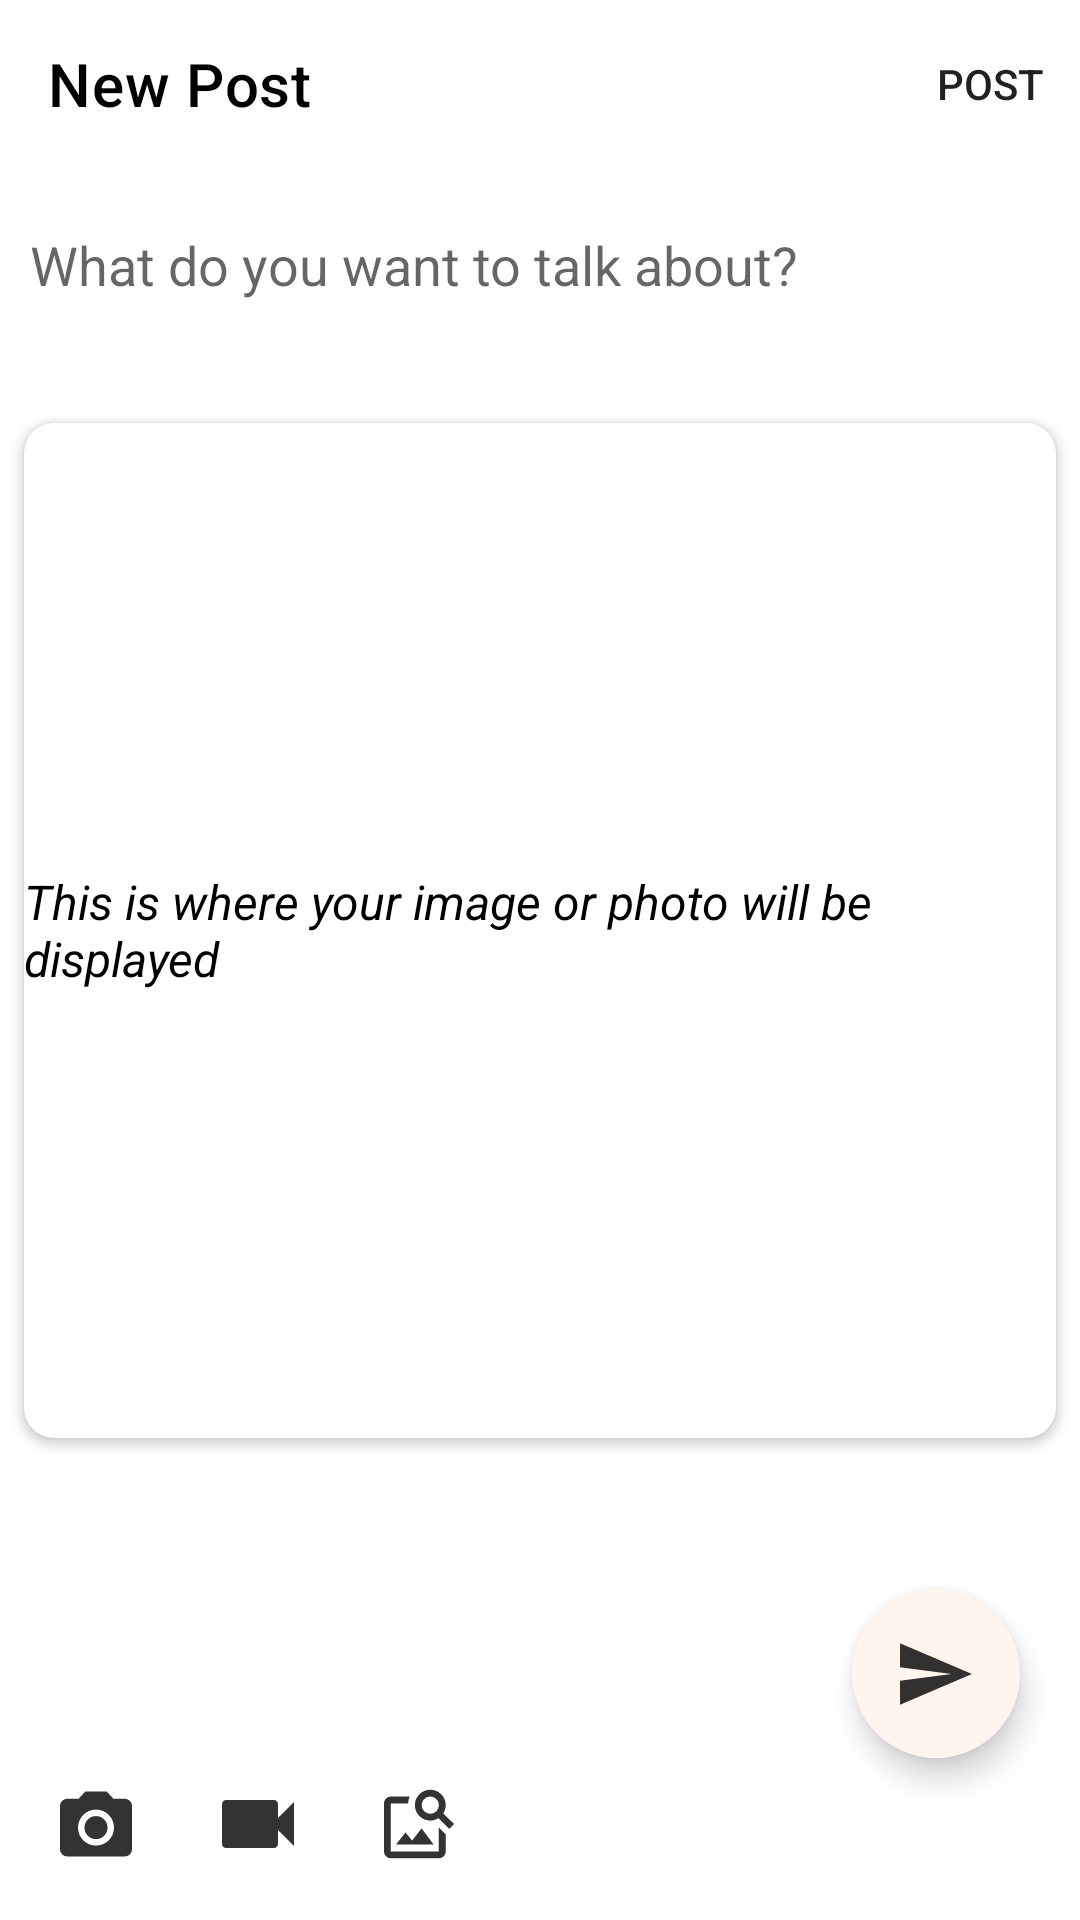

Screen size 1080px x 1920px. Icon name, then its center in pixels as (x,y):
camera: (96,1824)
gallery: (419,1824)
send: (936,1674)
video: (258,1824)
